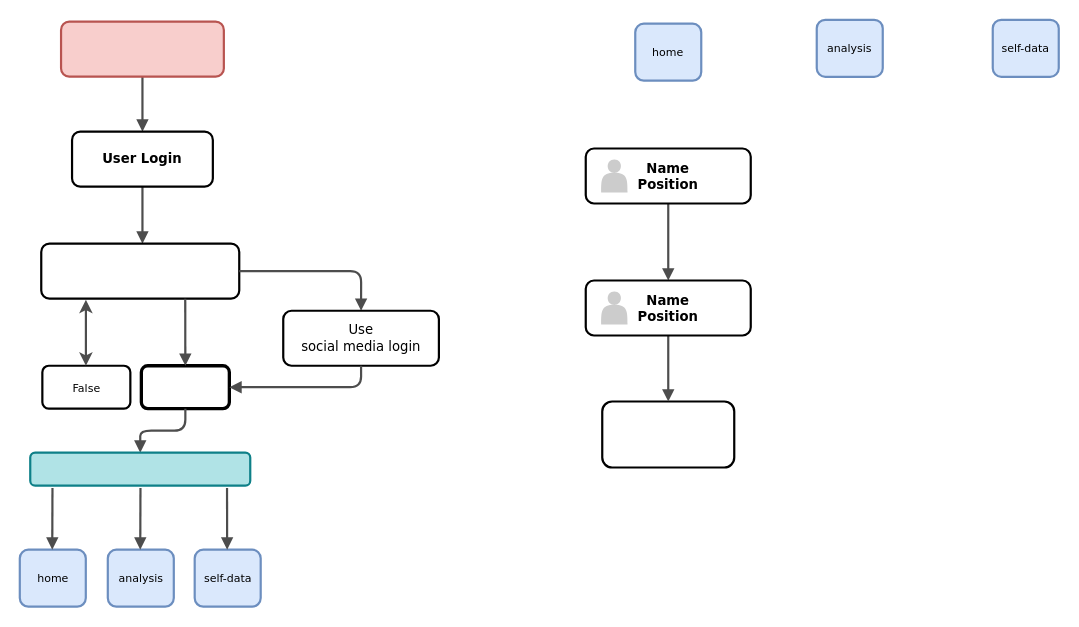
This 1079x627 diagram has some shape labels left out. Each missing label, with the centre of its shape:
Bliss App Launch: [141,48]
Enter account/pass: [140,270]
Main Pages: [140,468]
Position 2: [668,434]
Ture: [184,387]
